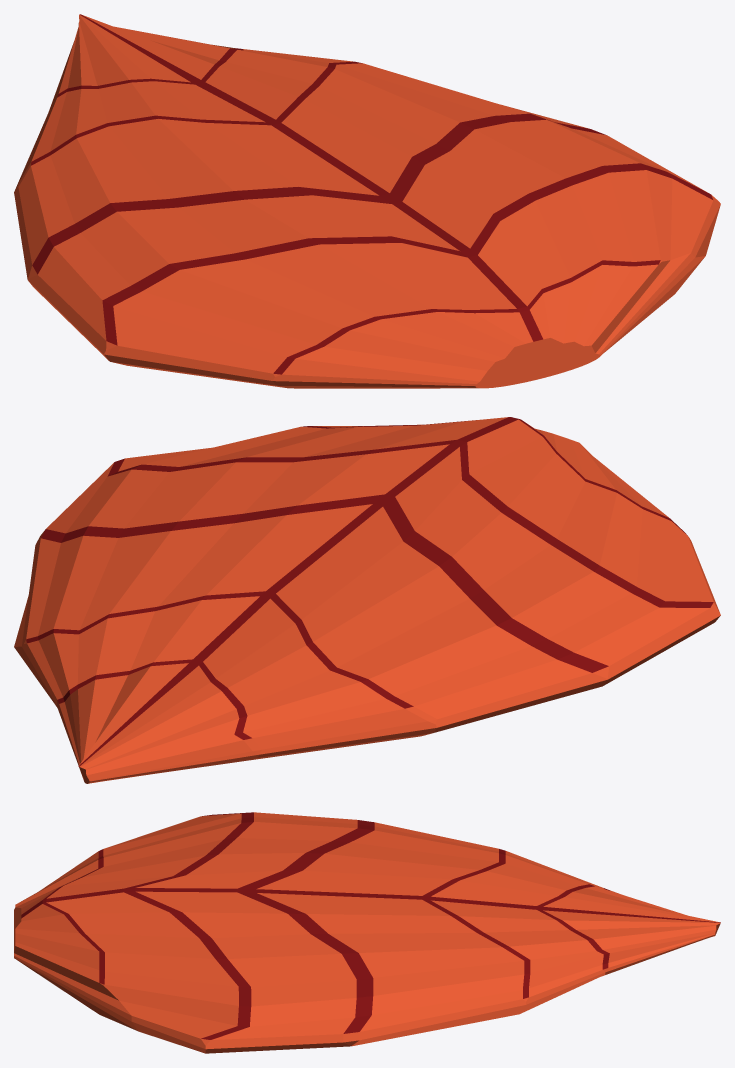
Rendered from RedLeaf.fbx.
The picture shows the model from 3 angles, top to bottom: view 1: azimuth 30°, elevation 25°; view 2: azimuth 150°, elevation 25°; view 3: azimuth 270°, elevation 25°; orthographic projection. The views are drawn at different scales.
Visible parts, largest first — view 1: RedLeaf; view 2: RedLeaf; view 3: RedLeaf.
Part boxes in pixels (left/top/right/bottom): RedLeaf: left=14, top=14, right=720, bottom=388; RedLeaf: left=14, top=417, right=720, bottom=783; RedLeaf: left=14, top=812, right=720, bottom=1053.
Bounding box in the file's own units: 155 × 25.46 × 202.
